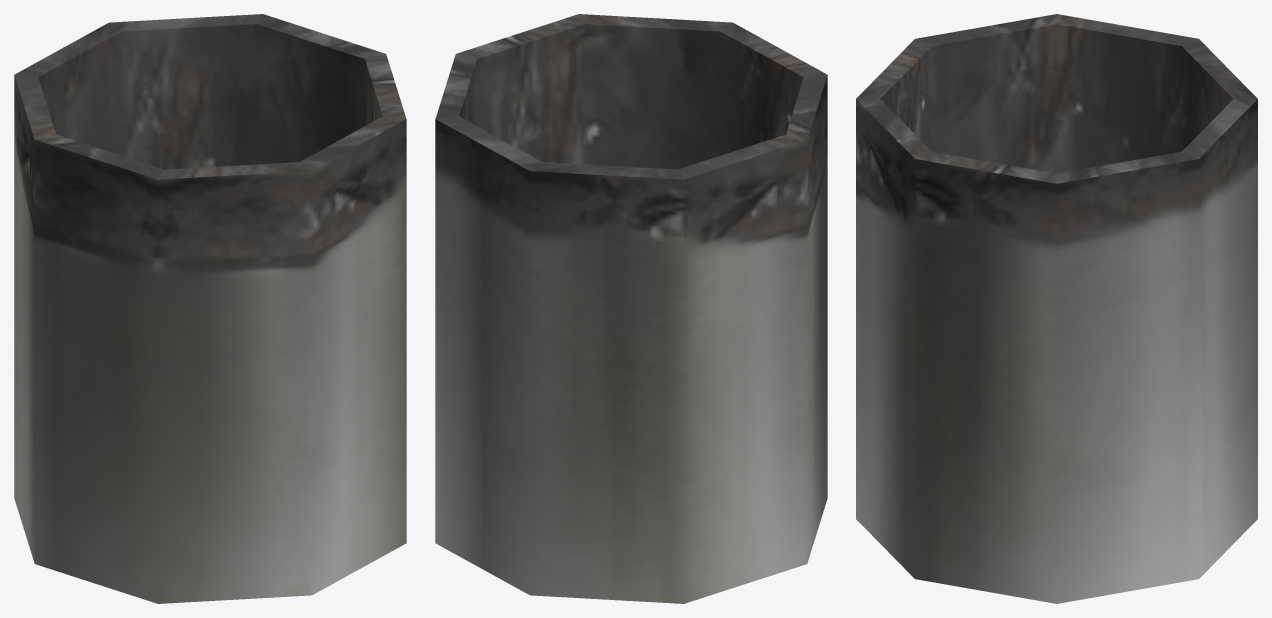
Rendered from Trash_Can_01.dae.
3 renders of one model, left to right at view 1: azimuth 30°, elevation 25°; view 2: azimuth 150°, elevation 25°; view 3: azimuth 270°, elevation 25°, orthographic.
Visible parts, largest first — view 1: Trash_Can_01; view 2: Trash_Can_01; view 3: Trash_Can_01.
Boxes of the visible parts, left/top/right/bottom form: Trash_Can_01: left=14, top=14, right=406, bottom=603; Trash_Can_01: left=435, top=14, right=827, bottom=603; Trash_Can_01: left=856, top=14, right=1257, bottom=603.
Bounding box in the file's own units: 0.466 × 0.466 × 0.5376.
Materials: 1 (1 with a texture image).
